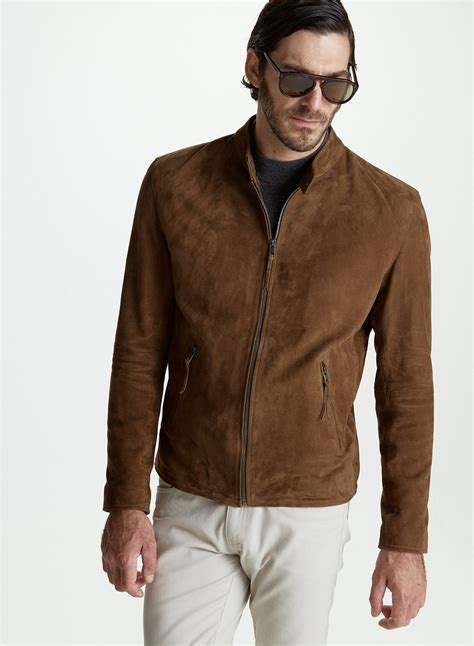gamuza: (104, 115, 435, 554)
